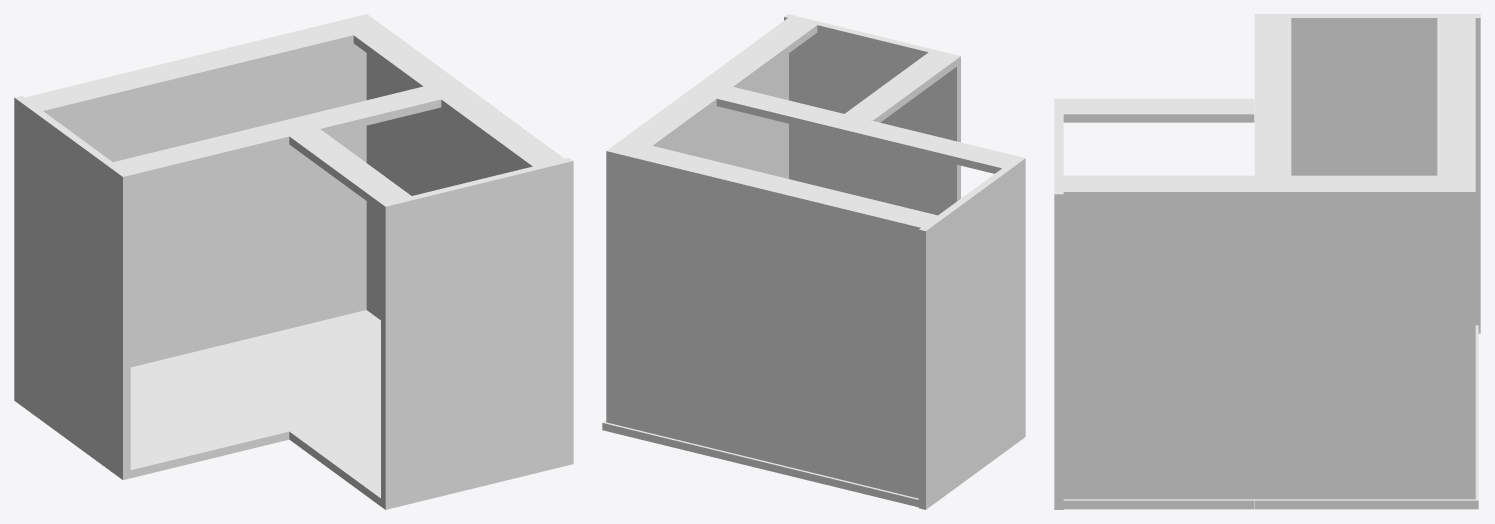
Rendered from corpus_bottom_sarok_90.glb.
3 renders of one model, left to right at view 1: azimuth 30°, elevation 25°; view 2: azimuth 150°, elevation 25°; view 3: azimuth 270°, elevation 25°, orthographic. The views are drawn at different scales.
Visible parts, largest first — view 1: corpus_bottom_sarok_90; view 2: corpus_bottom_sarok_90; view 3: corpus_bottom_sarok_90.
Part boxes in pixels (x1,y1,x2,y2): corpus_bottom_sarok_90: (14, 14, 573, 509); corpus_bottom_sarok_90: (602, 14, 1025, 509); corpus_bottom_sarok_90: (1054, 14, 1480, 509).
Bounding box in the file's own units: 0.8748 × 0.715 × 0.8749.
Materials: 1 (1 with a texture image).
